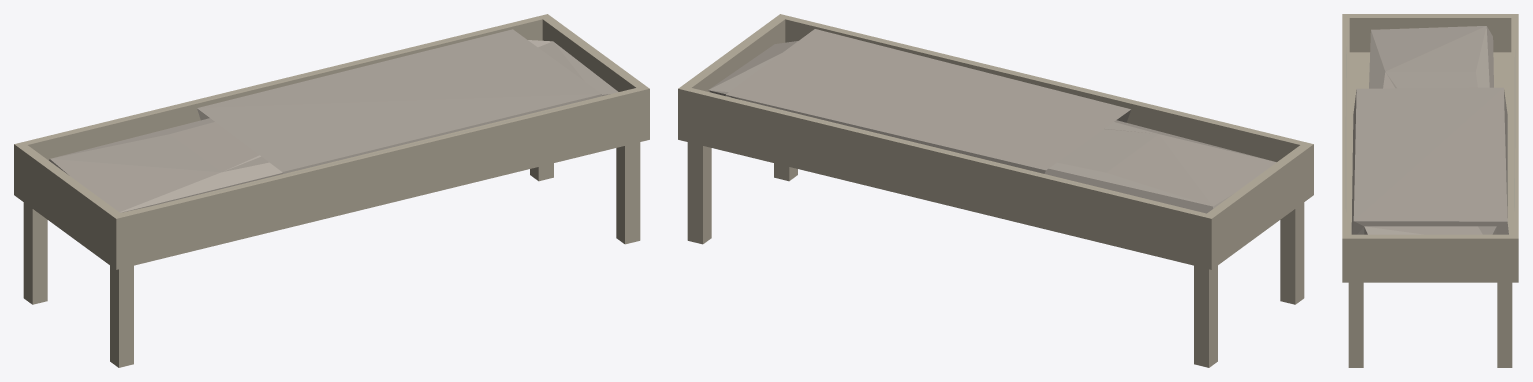
The model's file is open_bunk_lower.glb.
The picture shows the model from 3 angles, left to right: view 1: azimuth 30°, elevation 25°; view 2: azimuth 150°, elevation 25°; view 3: azimuth 270°, elevation 25°; orthographic projection. The views are drawn at different scales.
Parts seen in each view (by area): view 1: open_bunk_lower; view 2: open_bunk_lower; view 3: open_bunk_lower.
Boxes of the visible parts, <box> form: open_bunk_lower: <box>14,14,649,367</box>; open_bunk_lower: <box>678,14,1313,367</box>; open_bunk_lower: <box>1342,14,1518,367</box>.
Bounding box in the file's own units: 1.75 × 0.48 × 0.58.
